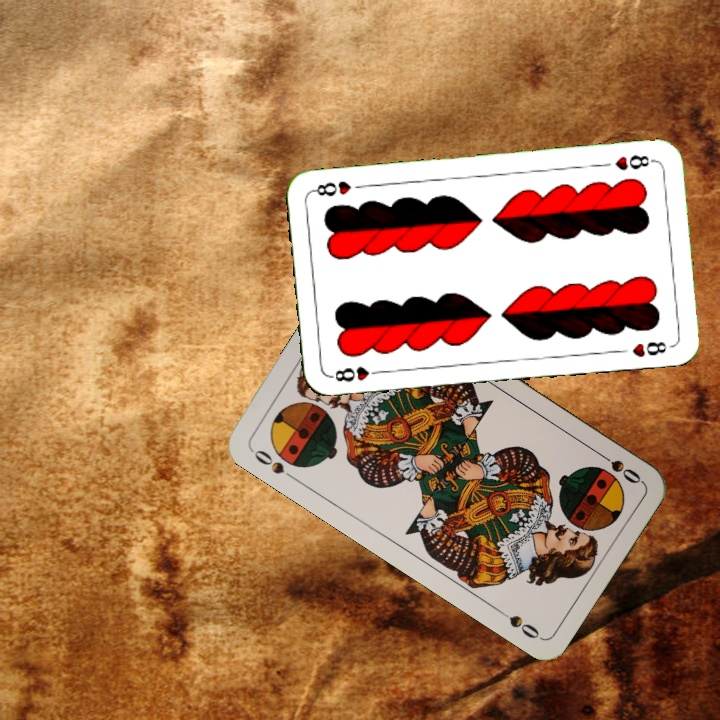H8: (326, 362, 386, 385), (611, 150, 658, 173)
SO: (592, 447, 644, 487), (247, 445, 299, 483)
